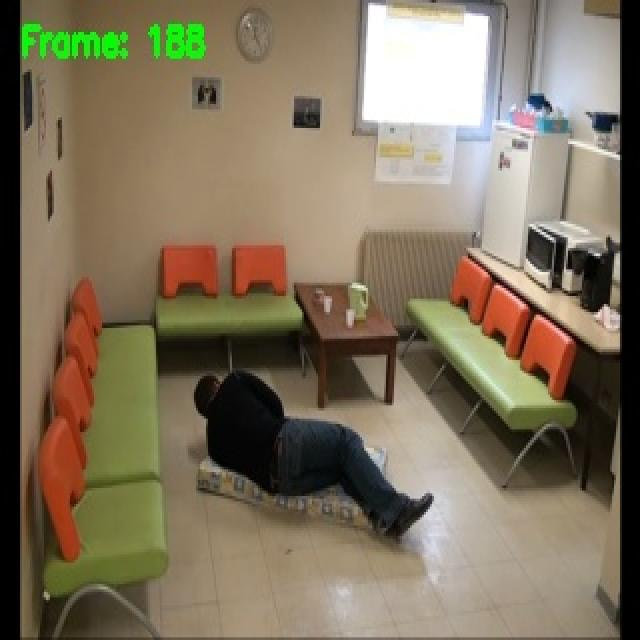Fall-Detected: (193, 370, 422, 534)
